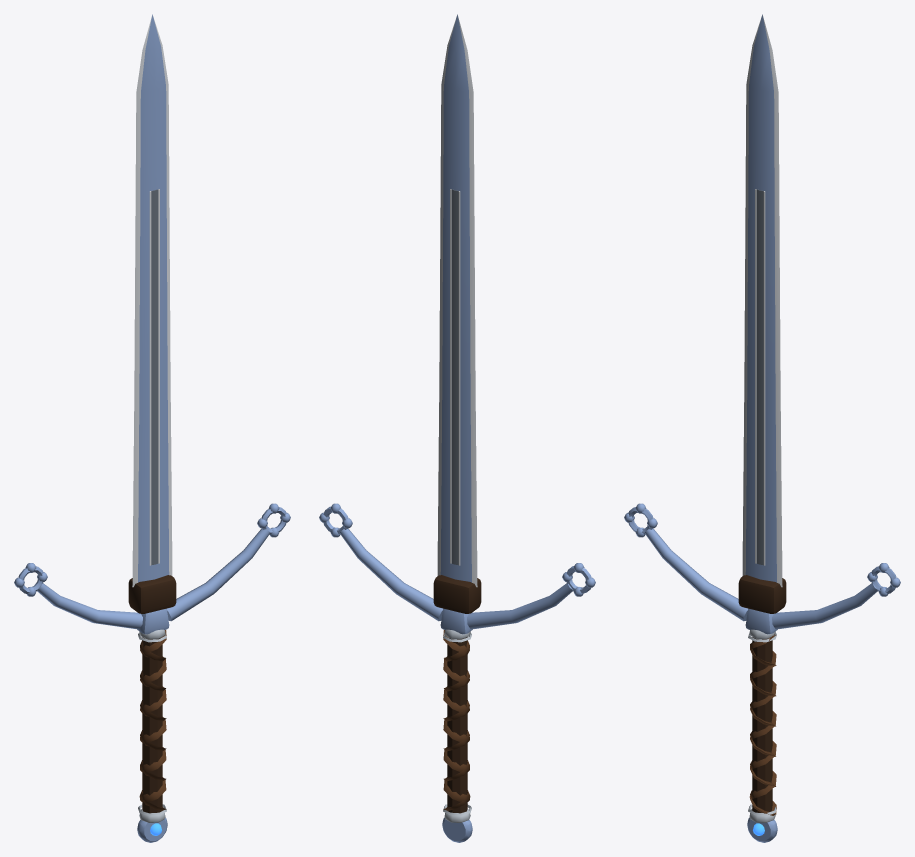
File: steel_claymore.glb
3 renders of one model, left to right at view 1: azimuth 30°, elevation 25°; view 2: azimuth 150°, elevation 25°; view 3: azimuth 330°, elevation 25°, orthographic.
Visible parts, largest first — view 1: steel_claymore; view 2: steel_claymore; view 3: steel_claymore.
Part boxes in pixels (box(x1,y1,x2,y2)): steel_claymore: box(14, 14, 290, 842); steel_claymore: box(319, 14, 595, 842); steel_claymore: box(624, 14, 900, 842).
Bounding box in the file's own units: 0.5753 × 1.66 × 0.055.
